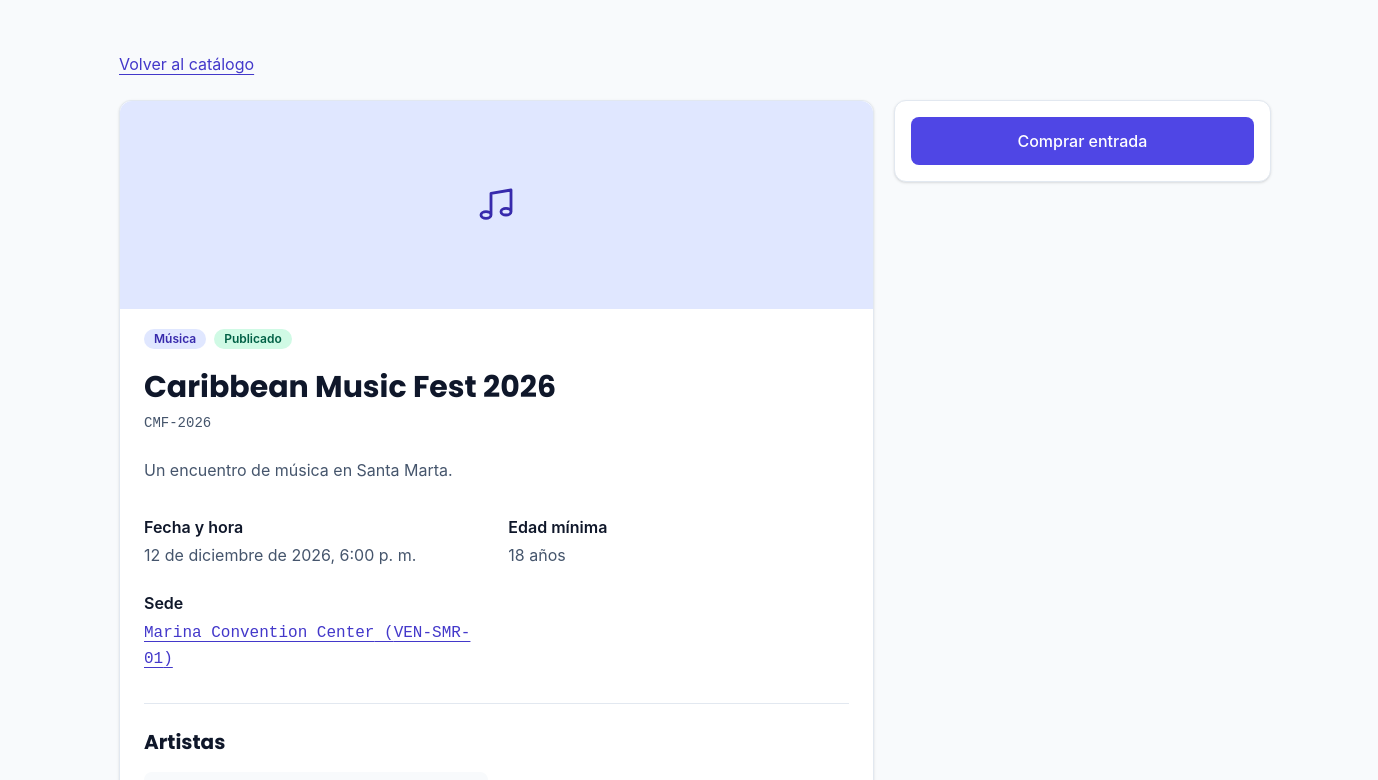
it: DetalleEvento › envía al visitante a iniciar sesión para comprar
This screenshot has width=1378, height=780.
Click the button "Comprar entrada": (1082, 141) [911,117,1254,165]
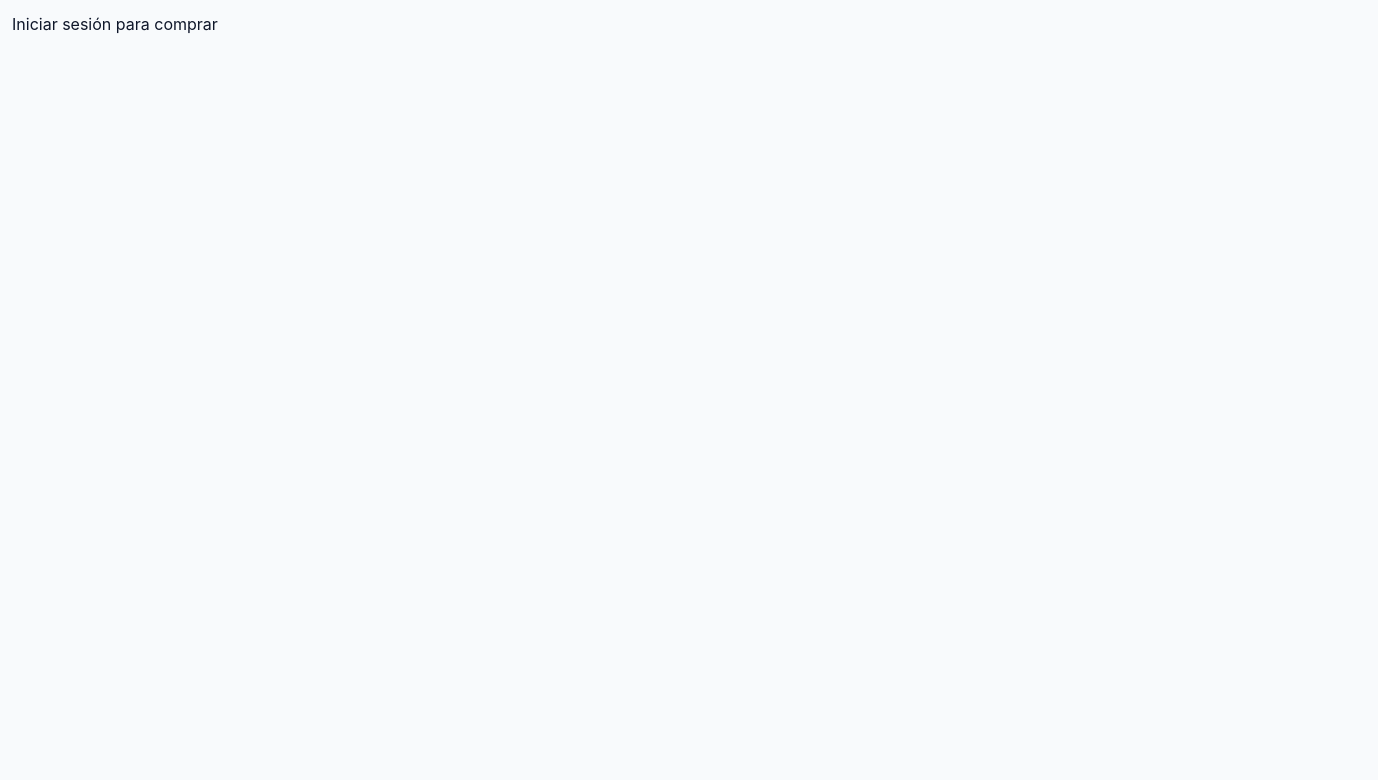
Now the heading "Iniciar sesión para comprar" is shown, box [12,14,218,34]
